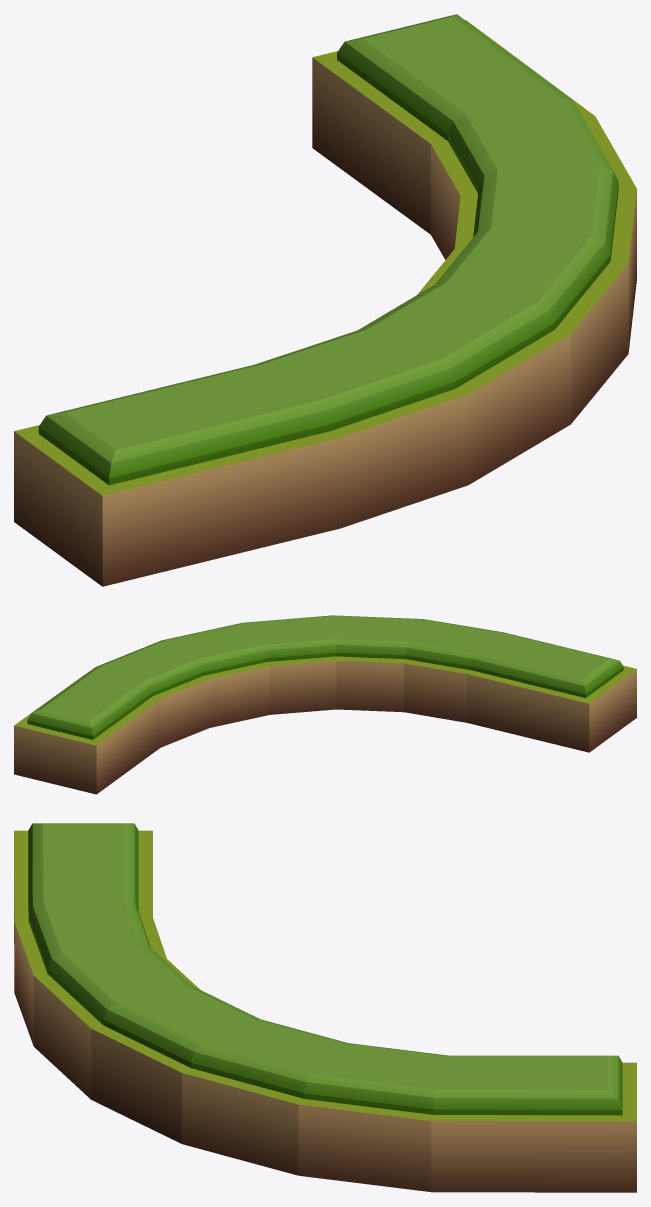
File: Outer_Curve_Grass.fbx
3 views of the same model, one above another, from view 1: azimuth 30°, elevation 25°; view 2: azimuth 150°, elevation 25°; view 3: azimuth 270°, elevation 25° (orthographic). The views are drawn at different scales.
Parts seen in each view (by area): view 1: Outer_Curve_Grass; view 2: Outer_Curve_Grass; view 3: Outer_Curve_Grass.
Boxes of the visible parts, box(x1,y1,x2,y2) form: Outer_Curve_Grass: box(14, 14, 636, 586); Outer_Curve_Grass: box(14, 615, 636, 794); Outer_Curve_Grass: box(14, 823, 636, 1192).
Bounding box in the file's own units: 400 × 57.89 × 362.
